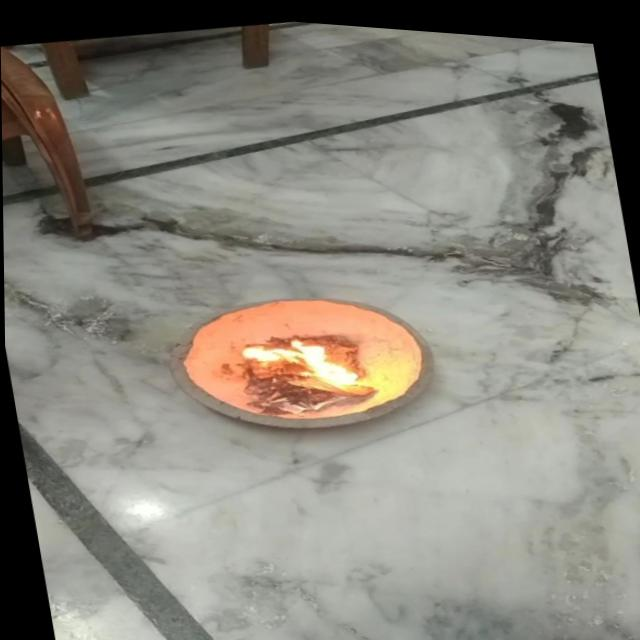fire: (241, 318, 366, 402)
